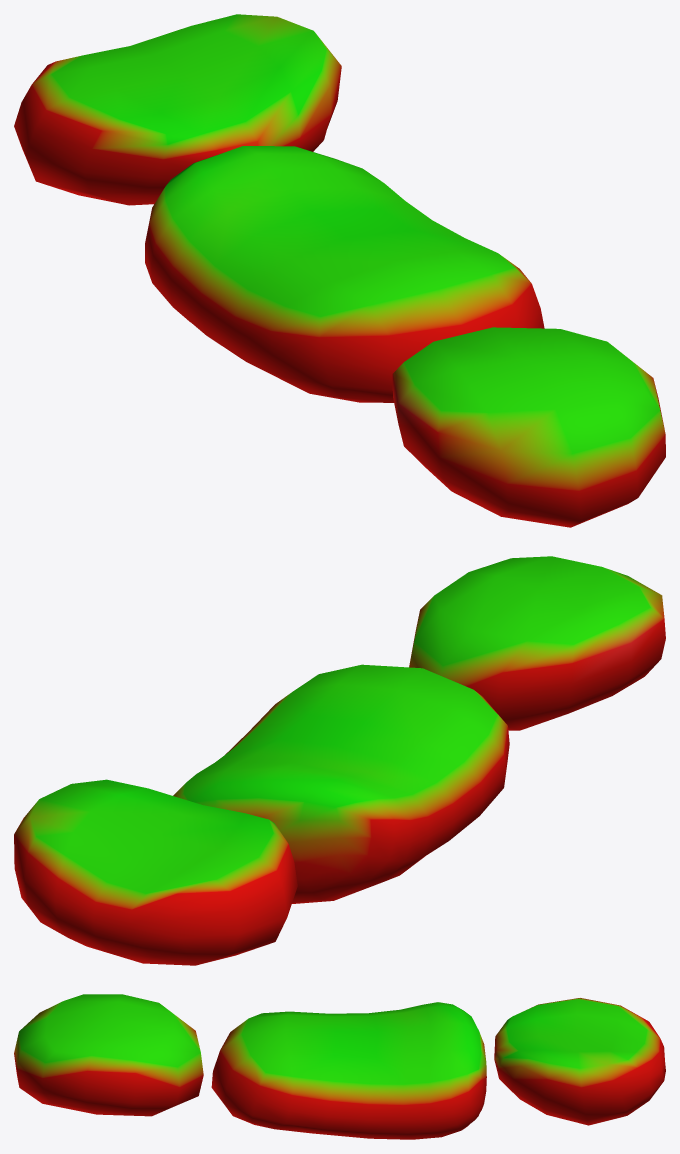
The model's file is AO Rock Bridge.fbx.
3 views of the same model, one above another, from view 1: azimuth 30°, elevation 25°; view 2: azimuth 150°, elevation 25°; view 3: azimuth 270°, elevation 25° (orthographic). The views are drawn at different scales.
Visible parts, largest first — view 1: Rock Bridge; view 2: Rock Bridge; view 3: Rock Bridge.
Part boxes in pixels (box(x1,y1,x2,y2)): Rock Bridge: box(14, 14, 665, 527); Rock Bridge: box(14, 556, 665, 965); Rock Bridge: box(14, 994, 665, 1139).
Bounding box in the file's own units: 679 × 346 × 2059.
